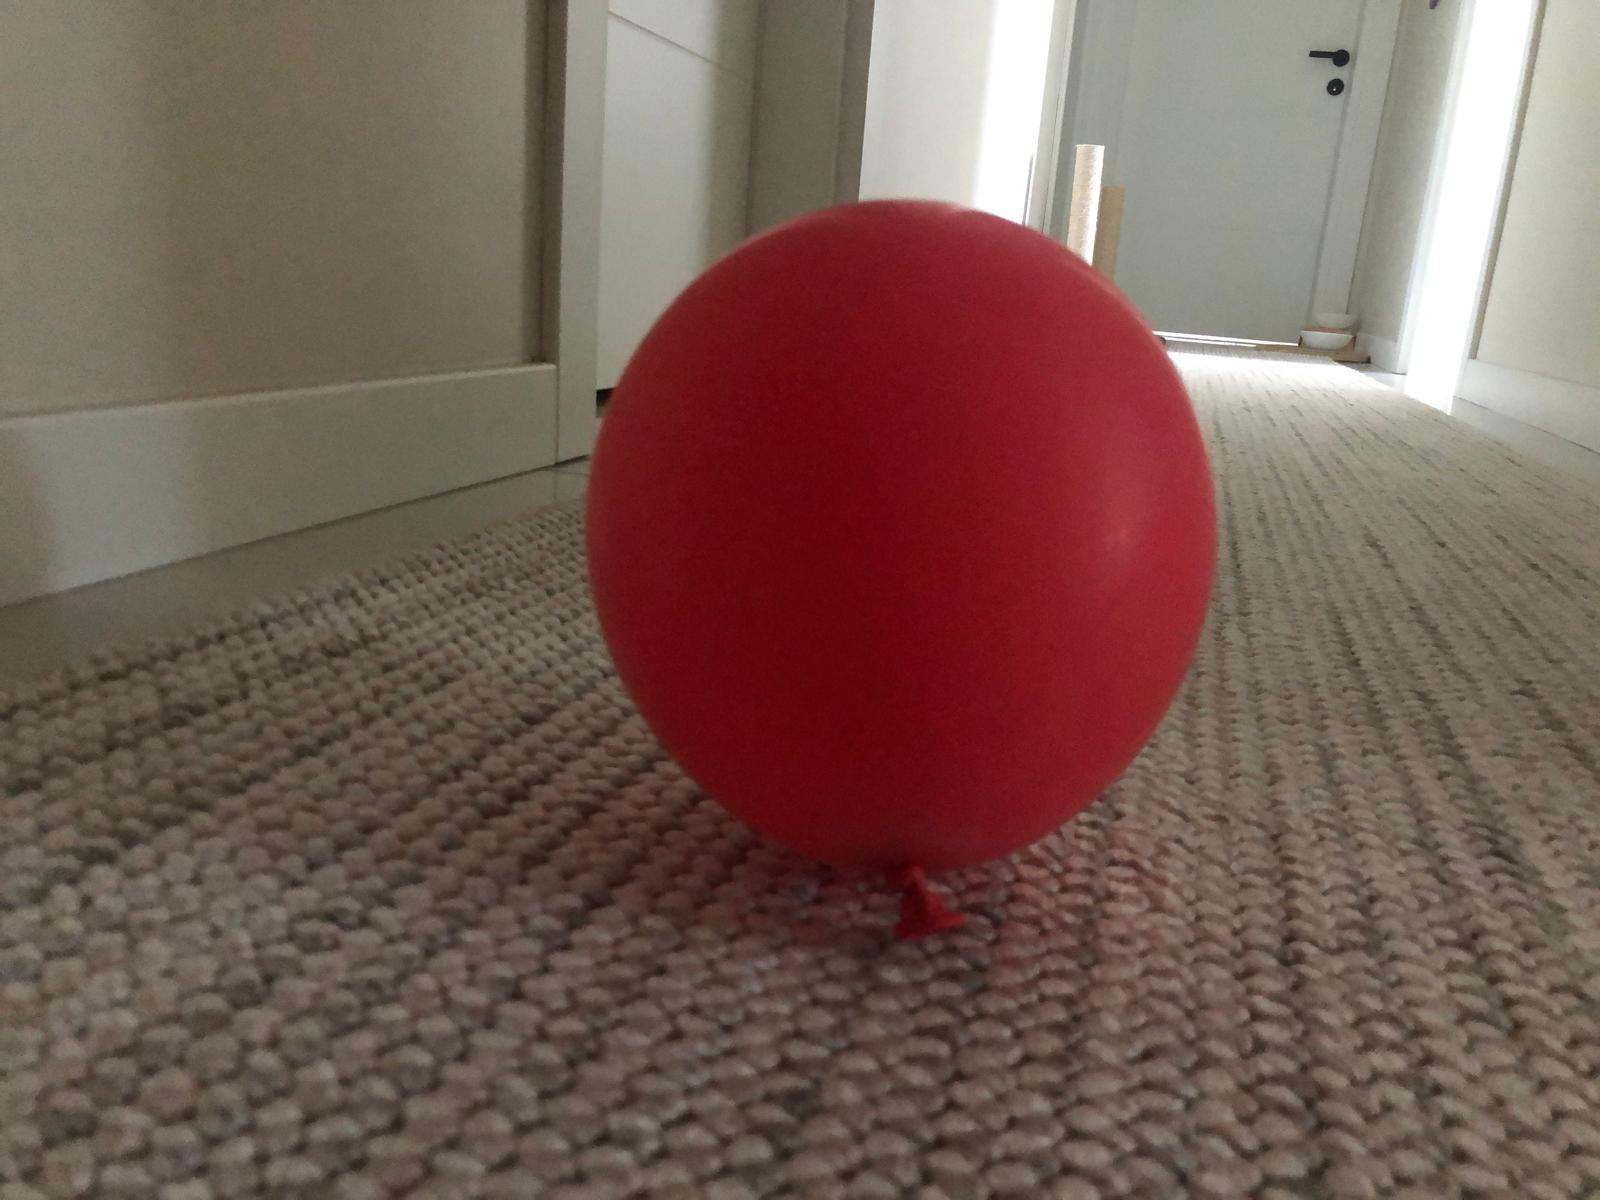red: (581, 195, 1226, 937)
